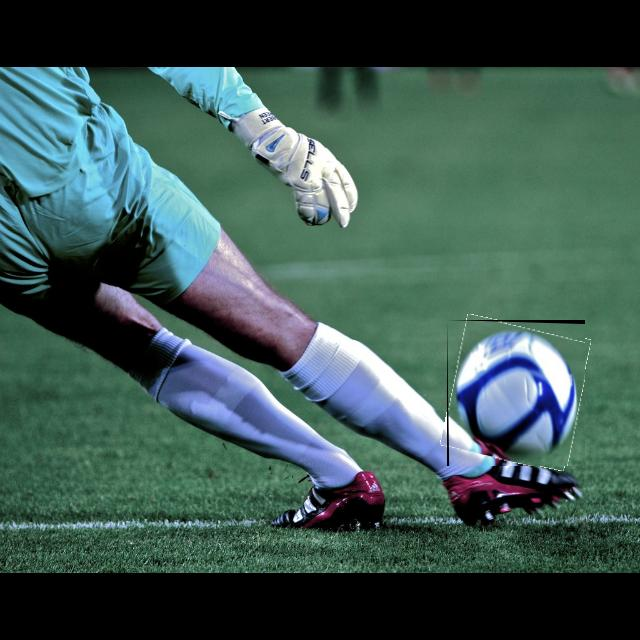Football: (447, 320, 585, 466)
